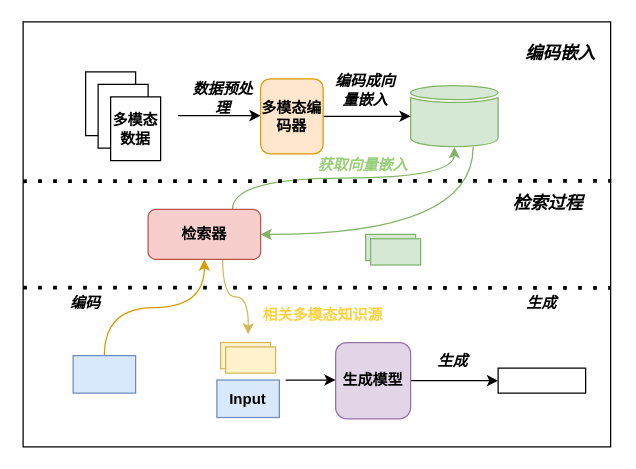
Some shapes in this 636 by 469 pixel diagram are drawn without their labels. Here are the shapes that lost their labels. From the top down, the box of each, then its label:
(409, 84, 498, 147): Vector Database
(72, 354, 136, 393): 查询
(497, 367, 586, 393): Response
